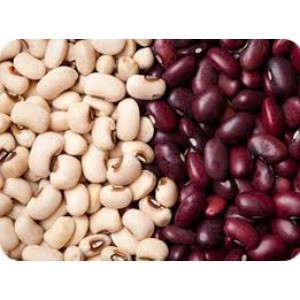beans_brain food: (170, 56, 274, 250), (7, 84, 119, 253)
